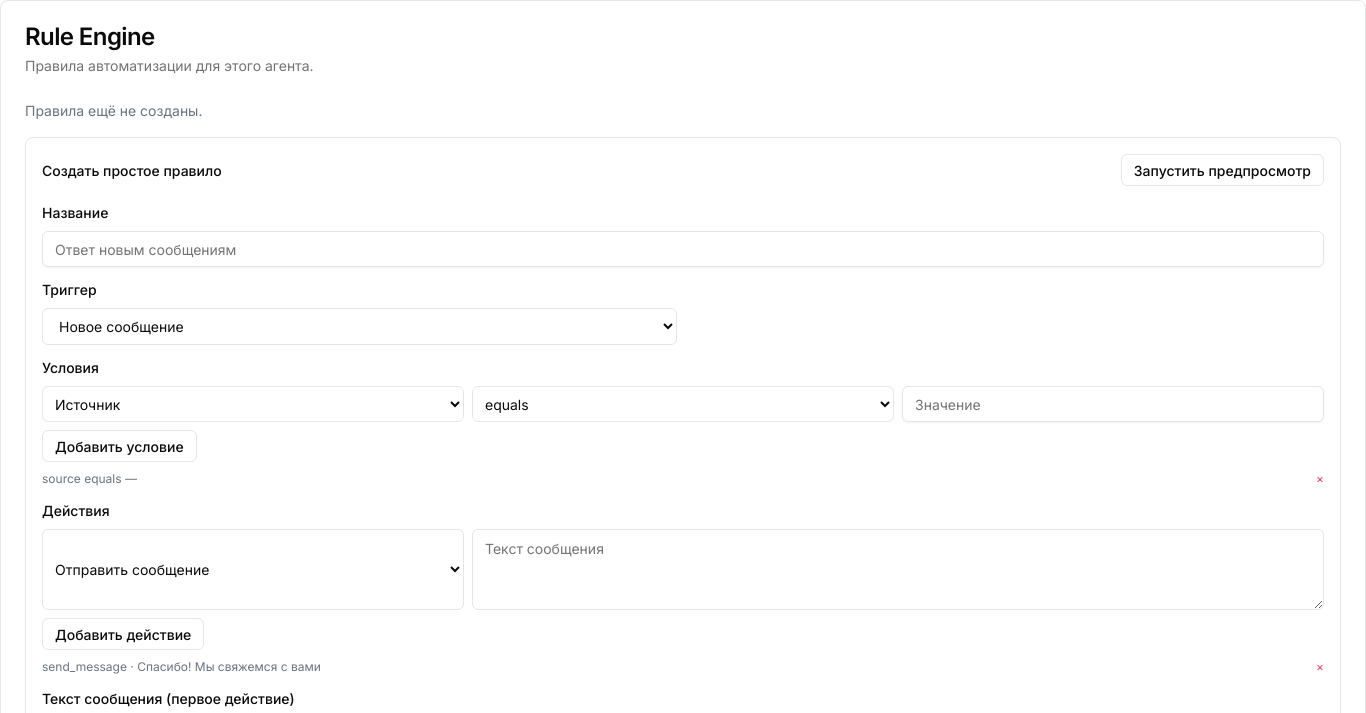
Test: AgentRules component › renders rule list and allows adding a condition
Expected: the text "Правила ещё не созданы." is shown, [25,102,202,119]
Click the button "Добавить условие". click: (119, 446)
box: [42,430,197,462]
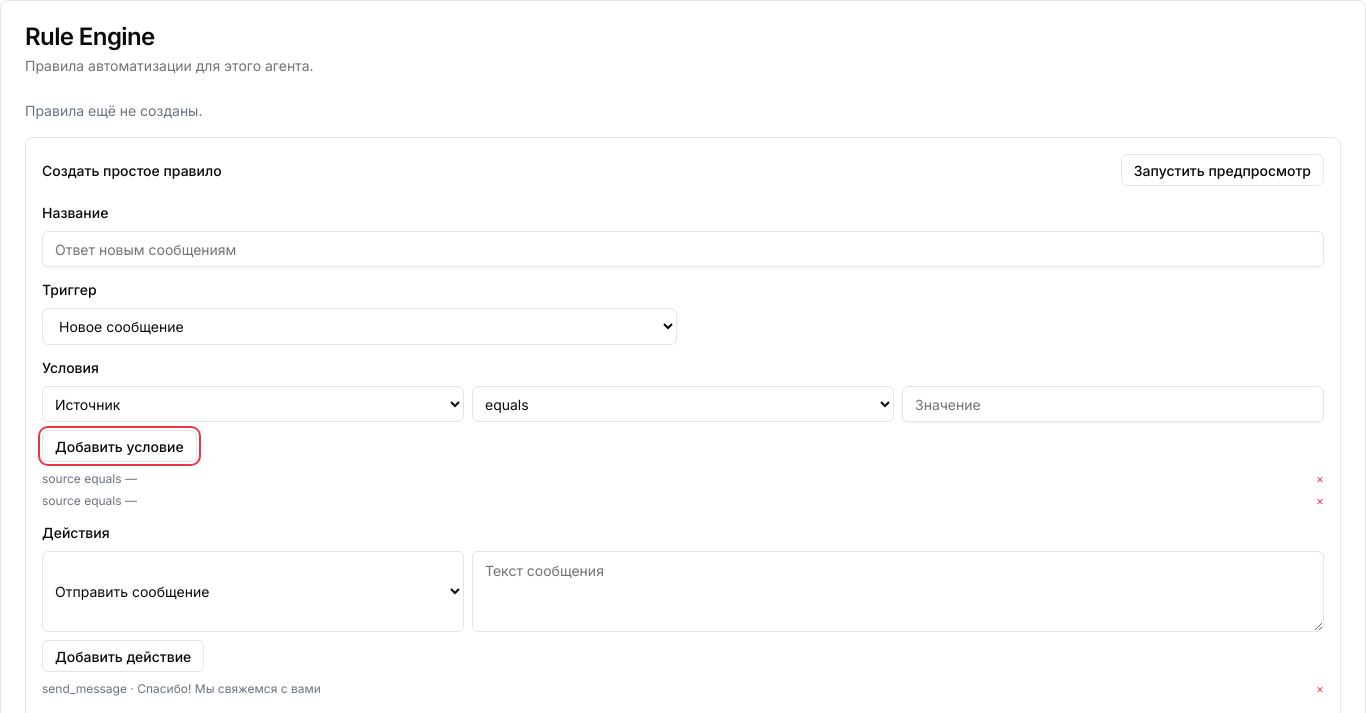
Expected: the text "source equals —" is shown 2 times, [42,470,137,488]; [42,492,137,510]
